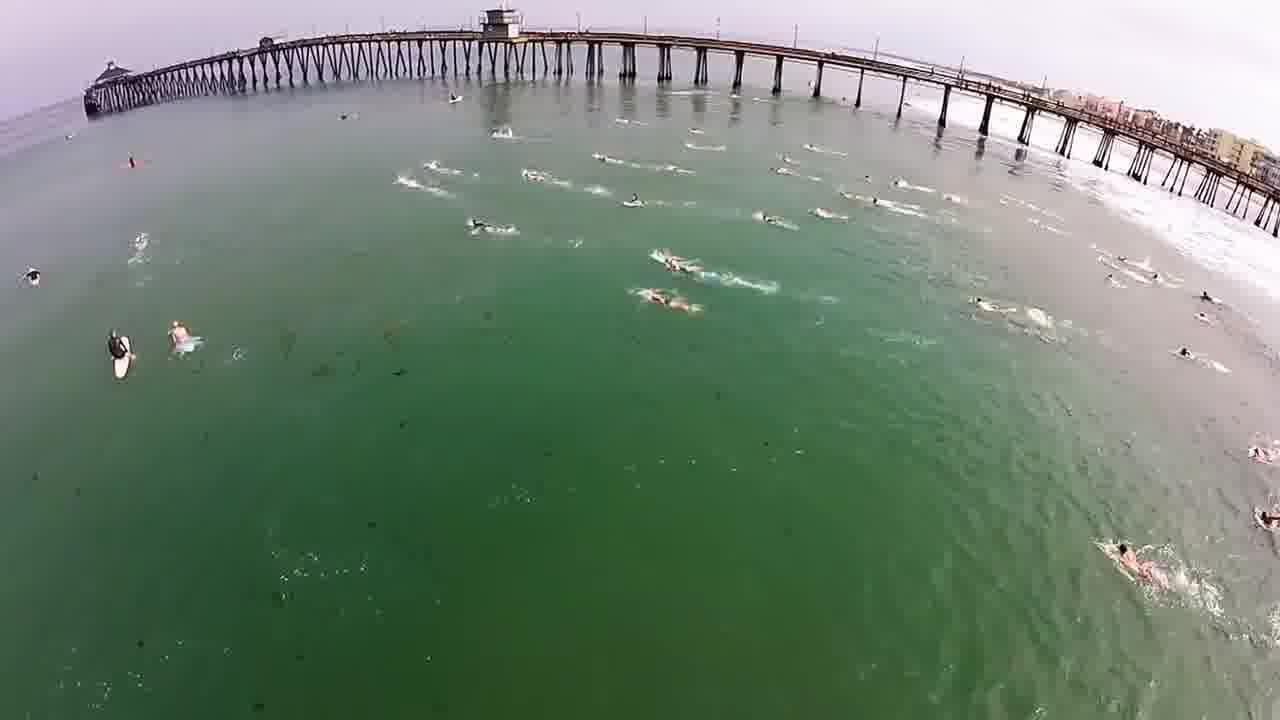human: (1097, 532, 1164, 589), (645, 237, 726, 284), (625, 278, 690, 314), (452, 209, 519, 243)
